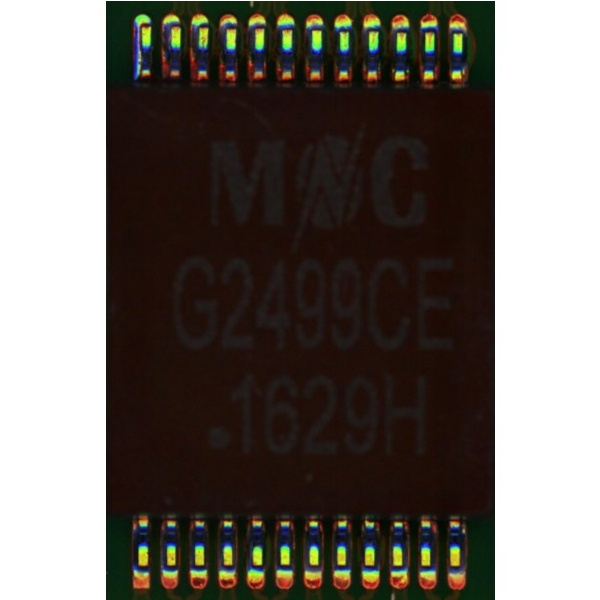Bad_qiaojiao: (134, 29, 140, 78)
